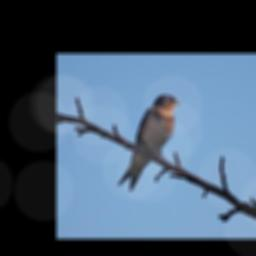Swallow: (118, 93, 181, 191)
